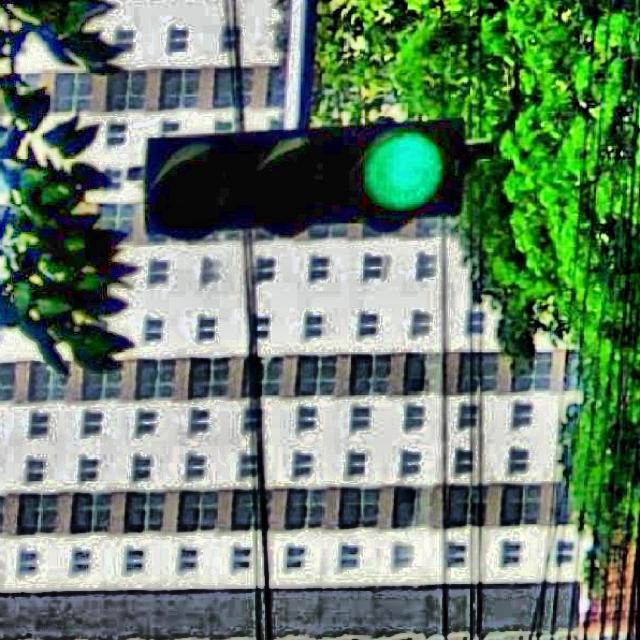green: (141, 116, 472, 250)
